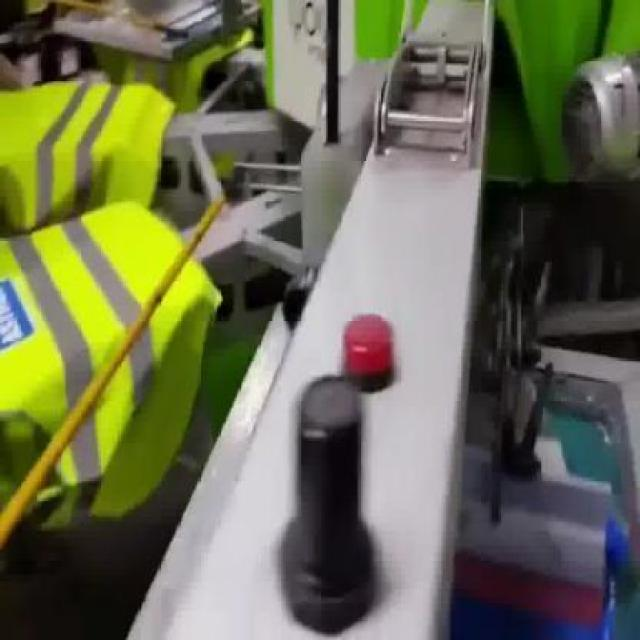Vest: (1, 197, 224, 528), (1, 78, 178, 234)
